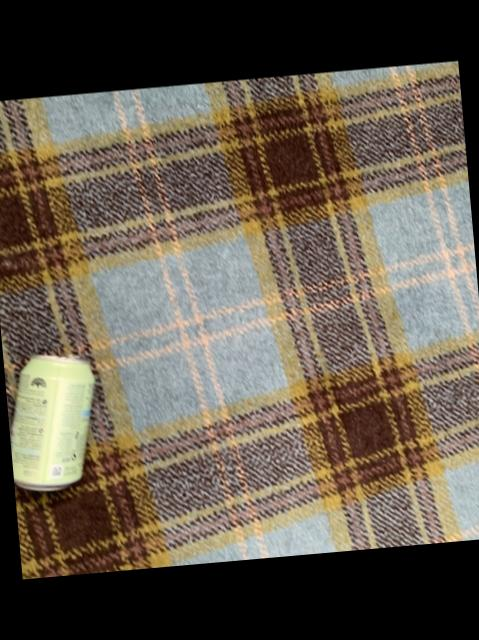metal: (10, 357, 93, 492)
